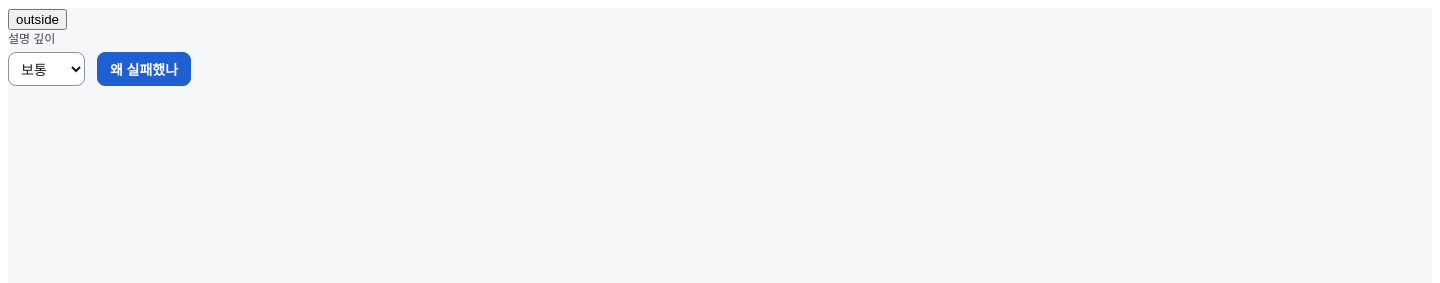
it: ExplainPanel focus › does not take focus from another place when the answer arrives
Click the button "왜 실패했나". click: (144, 69)
box: [97,52,191,86]
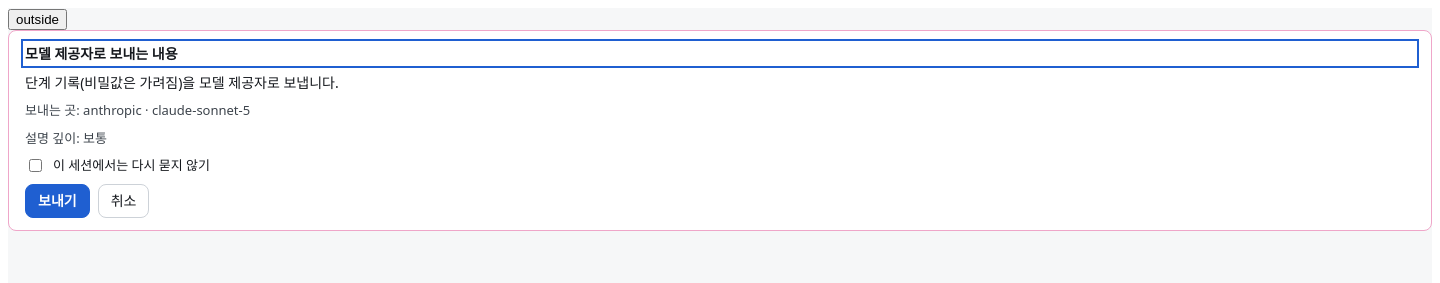
Click the button "보내기". click: (57, 200)
box: [25,184,90,218]
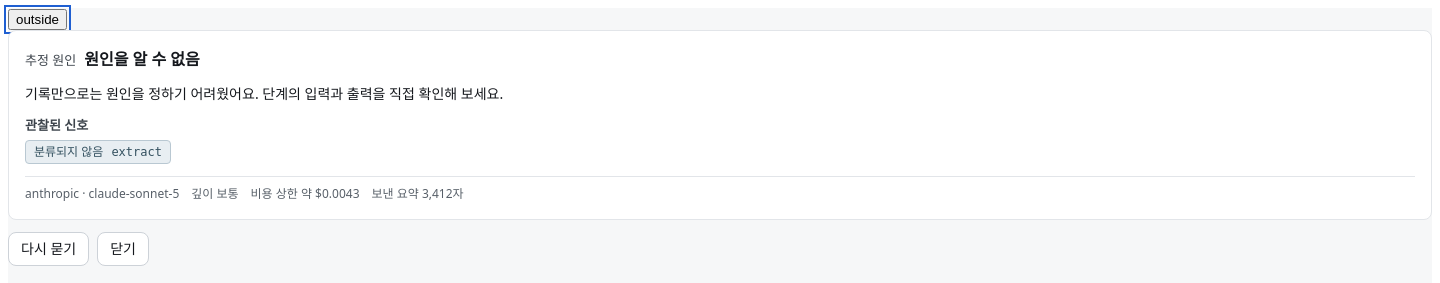
Now the element named "실패 설명" is shown
